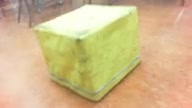cube: (34, 5, 142, 102)
